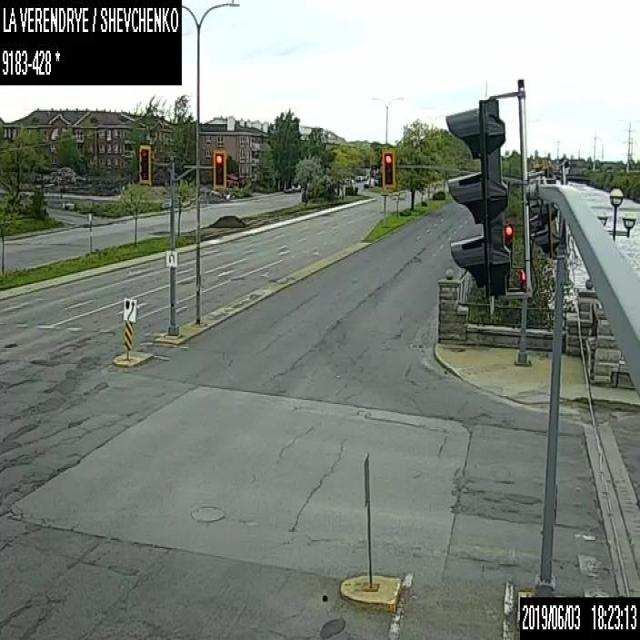vehicle: (283, 184, 294, 192), (292, 182, 300, 191)
